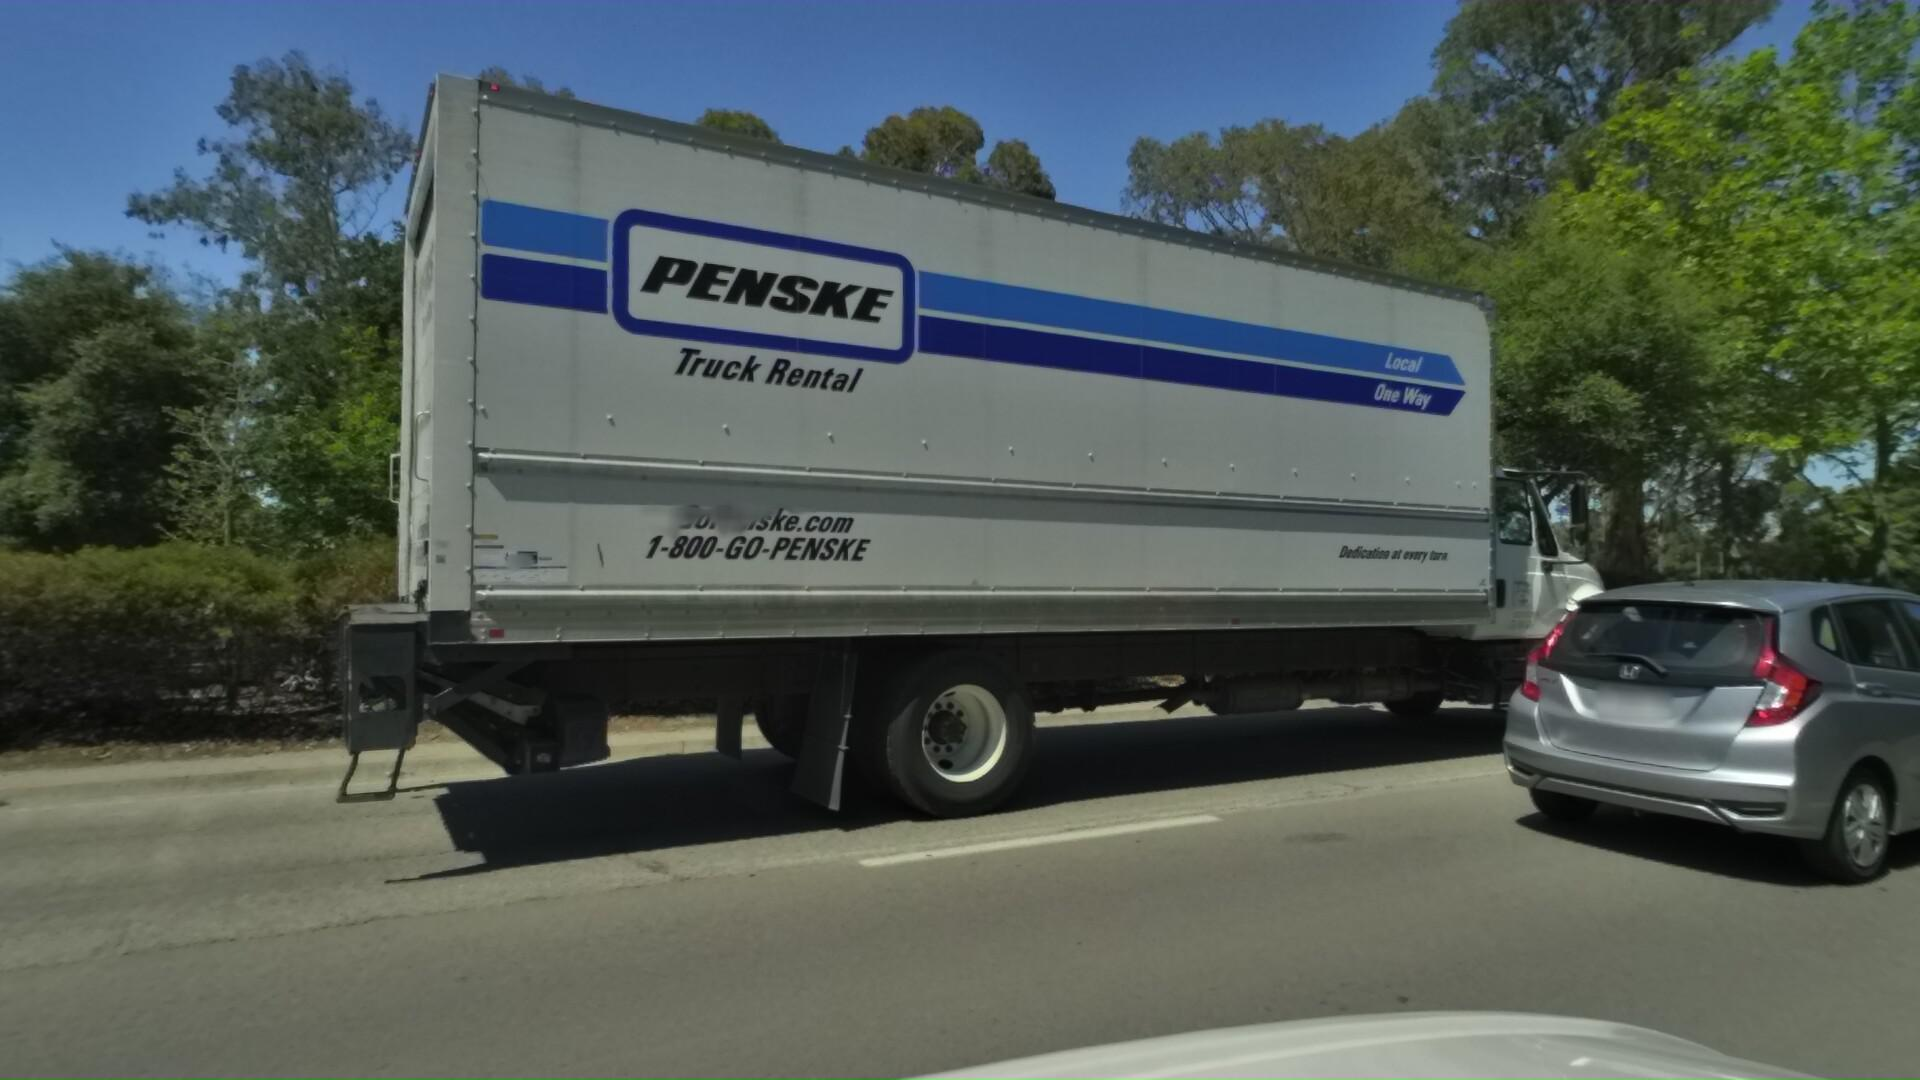car: (1472, 580, 1920, 915)
truck: (280, 0, 1727, 916)
